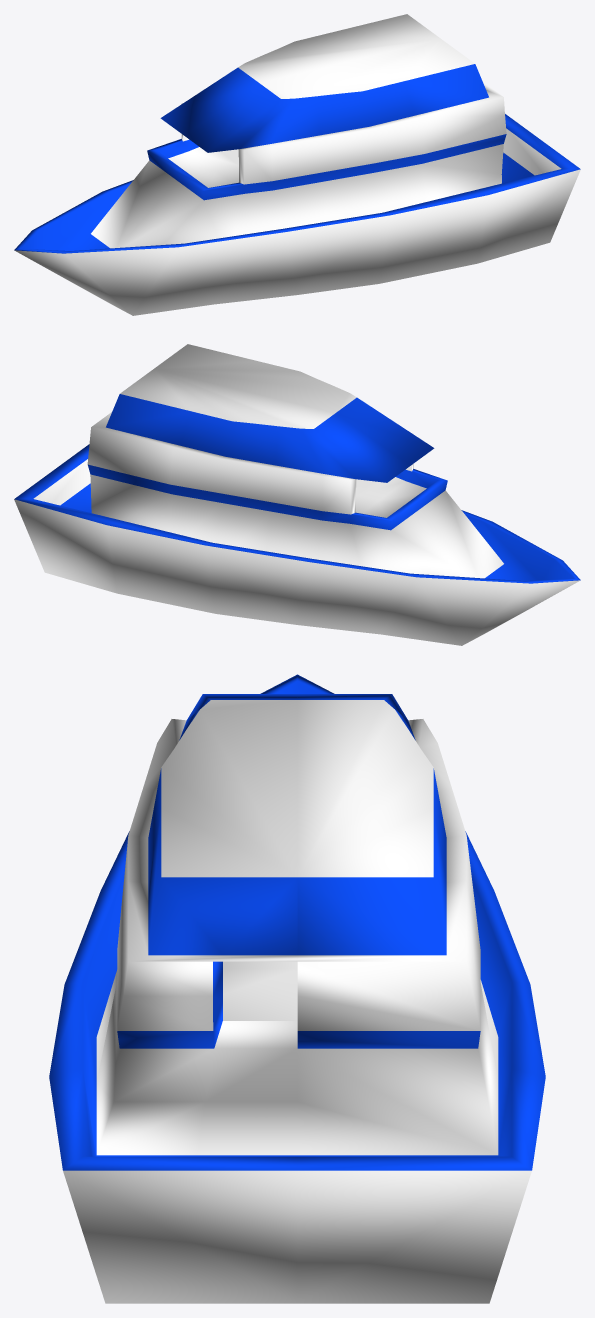
The model's file is Yacht_low_poly.glb.
The picture shows the model from 3 angles, top to bottom: view 1: azimuth 30°, elevation 25°; view 2: azimuth 150°, elevation 25°; view 3: azimuth 270°, elevation 25°; orthographic projection. The views are drawn at different scales.
Parts seen in each view (by area): view 1: Yacht_Material_0; view 2: Yacht_Material_0; view 3: Yacht_Material_0.
Part boxes in pixels (bbox=[...]): Yacht_Material_0: bbox=[14, 14, 580, 315]; Yacht_Material_0: bbox=[14, 344, 580, 645]; Yacht_Material_0: bbox=[49, 674, 545, 1303].
Size of the model in its own units: 5.33 by 1.84 by 2.26.
1 material, 1 textured.
